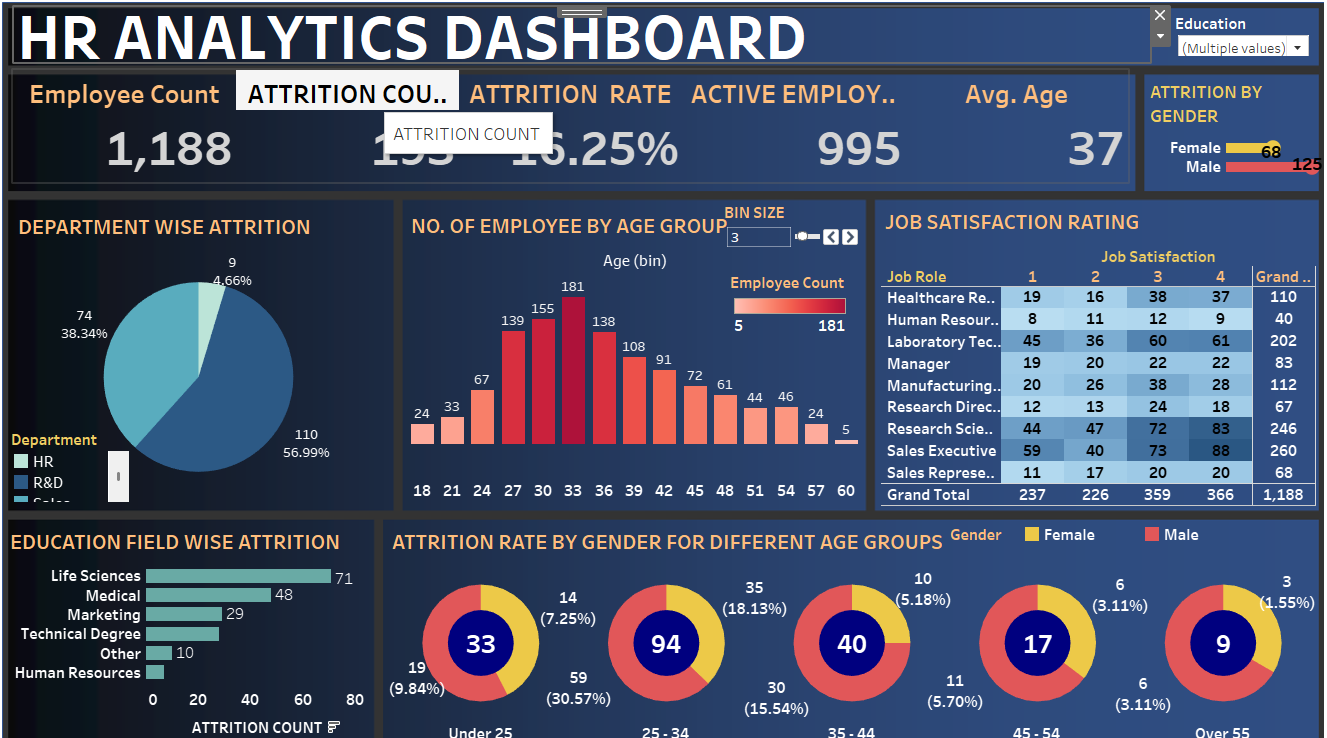

What the dashboard file says about the page in this screenshot:
{"tool":"tableau","page":{"name":"HR ANALYTICS DASHBOARD","canvas":[1600,900],"ordinal":0},"visuals":[{"type":"image","param":"D:/HR background.png","box":[8,8,1584,884]},{"type":"text","box":[40,20,858,64]},{"type":"filter","title":"DEPARTMENT WISE ATTRITION","param":"[federated.05s87xh04bm62e1erpcrc1kimn7m].[none:Education:nk]","box":[975,28,160,51]},{"type":"worksheet","title":"KPI","mark":"Automatic","box":[38.7,93.8,1306,131.2]},{"type":"worksheet","title":"ATTRITION BY GENDER","mark":"Automatic","rows":["Gender"],"cols":["Calculation_27021658477756416","Calculation_27021658477756416"],"box":[1366,100,208,131]},{"type":"parameter","param":"[Parameters].[Parameter 1]","box":[872,248,160,71]},{"type":"worksheet","title":"JOB SATISFACTION RATING","mark":"Square","rows":["Job Role"],"cols":["Job Satisfaction"],"box":[1055,250,510,355]},{"type":"worksheet","title":"NO. OF EMPLOYEE BY AGE GROUP","mark":"Automatic","rows":["Employee Count"],"cols":["Age (bin)"],"box":[500,254,533,346]},{"type":"worksheet","title":"DEPARTMENT WISE ATTRITION","mark":"Pie","box":[40,255,432,346]},{"type":"legend","title":"NO. OF EMPLOYEE BY AGE GROUP","param":"[federated.05s87xh04bm62e1erpcrc1kimn7m].[sum:Employee Count:qk]","box":[878,331,140,88]},{"type":"legend","title":"DEPARTMENT WISE ATTRITION","param":"[federated.05s87xh04bm62e1erpcrc1kimn7m].[none:Department:nk]","box":[36,515,140,85]},{"type":"worksheet","title":"EDUCATION FIELD WISE ATTRITION","mark":"Automatic","rows":["Education Field"],"cols":["Calculation_27021658477756416"],"box":[30,625,424,260]},{"type":"worksheet","title":"ATTRITION RATE BY GENDER FOR DIFFERENT AGE GROUPS","mark":"Pie","rows":["Calculation_27021658507218948","Calculation_27021658507218948"],"cols":["CF_age band"],"box":[478,625,1087,260]},{"type":"legend","title":"ATTRITION RATE BY GENDER FOR DIFFERENT AGE GROUPS","param":"[federated.05s87xh04bm62e1erpcrc1kimn7m].[none:Gender:nk]","box":[1136,626,426,30]}]}

Visuals, with their boxes in screenshot pixels (x1, y1, x2, y2), scaled from the page's 1600x900 canvas onto the 1327x738 screenshot:
image: rect(7, 7, 1320, 731)
text: rect(33, 16, 745, 69)
"DEPARTMENT WISE ATTRITION" filter: rect(809, 23, 941, 65)
"KPI" worksheet: rect(32, 77, 1115, 184)
"ATTRITION BY GENDER" worksheet: rect(1133, 82, 1305, 189)
parameter: rect(723, 203, 856, 262)
"JOB SATISFACTION RATING" worksheet (Square marks): rect(875, 205, 1298, 496)
"NO. OF EMPLOYEE BY AGE GROUP" worksheet: rect(415, 208, 857, 492)
"DEPARTMENT WISE ATTRITION" worksheet (Pie marks): rect(33, 209, 391, 493)
"NO. OF EMPLOYEE BY AGE GROUP" legend: rect(728, 271, 844, 344)
"DEPARTMENT WISE ATTRITION" legend: rect(30, 422, 146, 492)
"EDUCATION FIELD WISE ATTRITION" worksheet: rect(25, 512, 377, 726)
"ATTRITION RATE BY GENDER FOR DIFFERENT AGE GROUPS" worksheet (Pie marks): rect(396, 512, 1298, 726)
"ATTRITION RATE BY GENDER FOR DIFFERENT AGE GROUPS" legend: rect(942, 513, 1295, 538)
